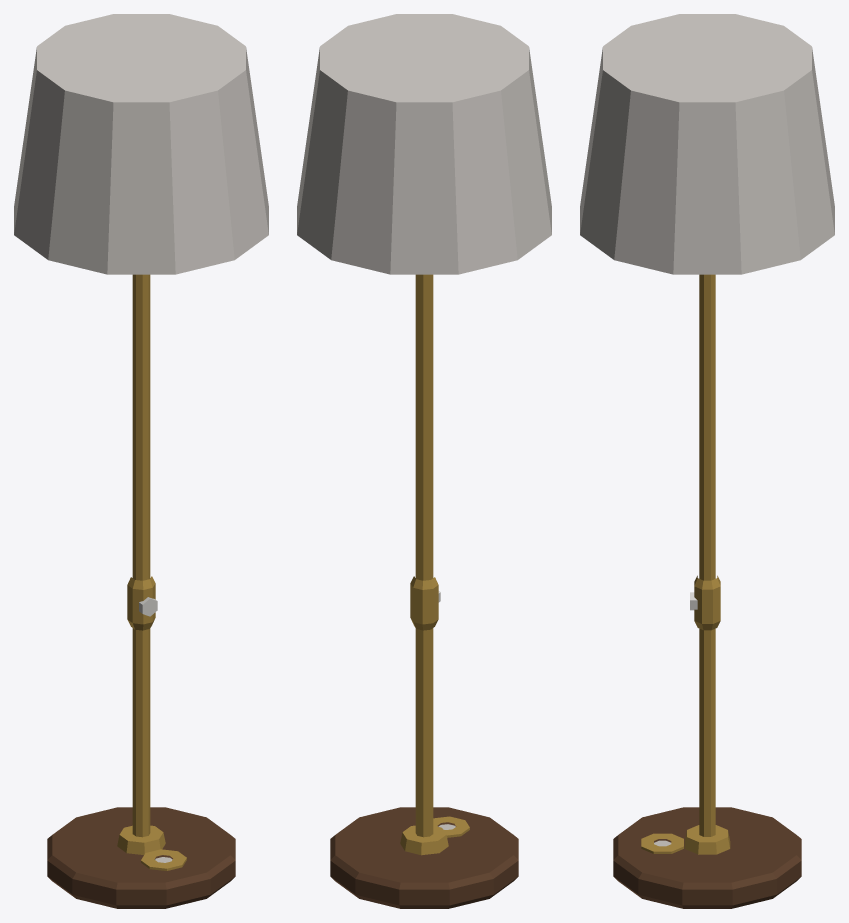
File: home_floorlamp.glb
The picture shows the model from 3 angles, left to right: view 1: azimuth 30°, elevation 25°; view 2: azimuth 150°, elevation 25°; view 3: azimuth 270°, elevation 25°; orthographic projection.
Parts seen in each view (by area): view 1: shade, arc-floor-lamp; view 2: shade, arc-floor-lamp; view 3: shade, arc-floor-lamp.
Part boxes in pixels (x1=…): shade: x1=14, y1=14, x2=268, y2=274; arc-floor-lamp: x1=47, y1=274, x2=235, y2=908; shade: x1=297, y1=14, x2=551, y2=274; arc-floor-lamp: x1=330, y1=274, x2=518, y2=908; shade: x1=580, y1=14, x2=834, y2=274; arc-floor-lamp: x1=613, y1=274, x2=801, y2=908.
Size of the model in its own units: 0.483 by 1.7 by 0.483.
